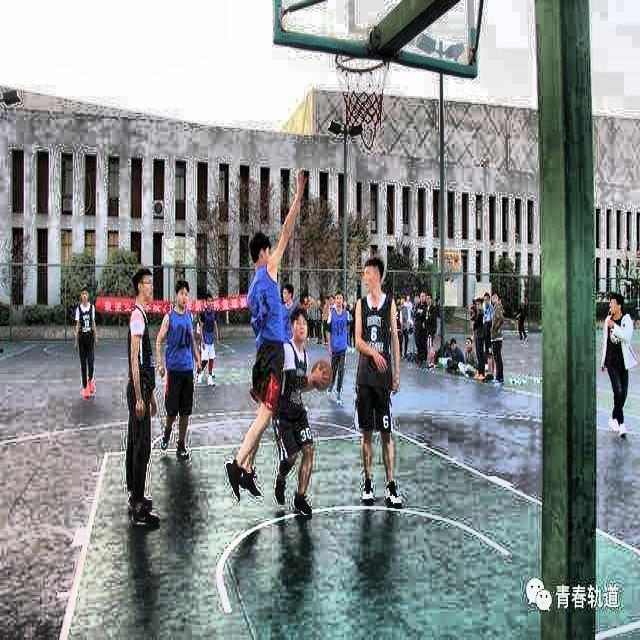rim: (335, 52, 387, 127)
